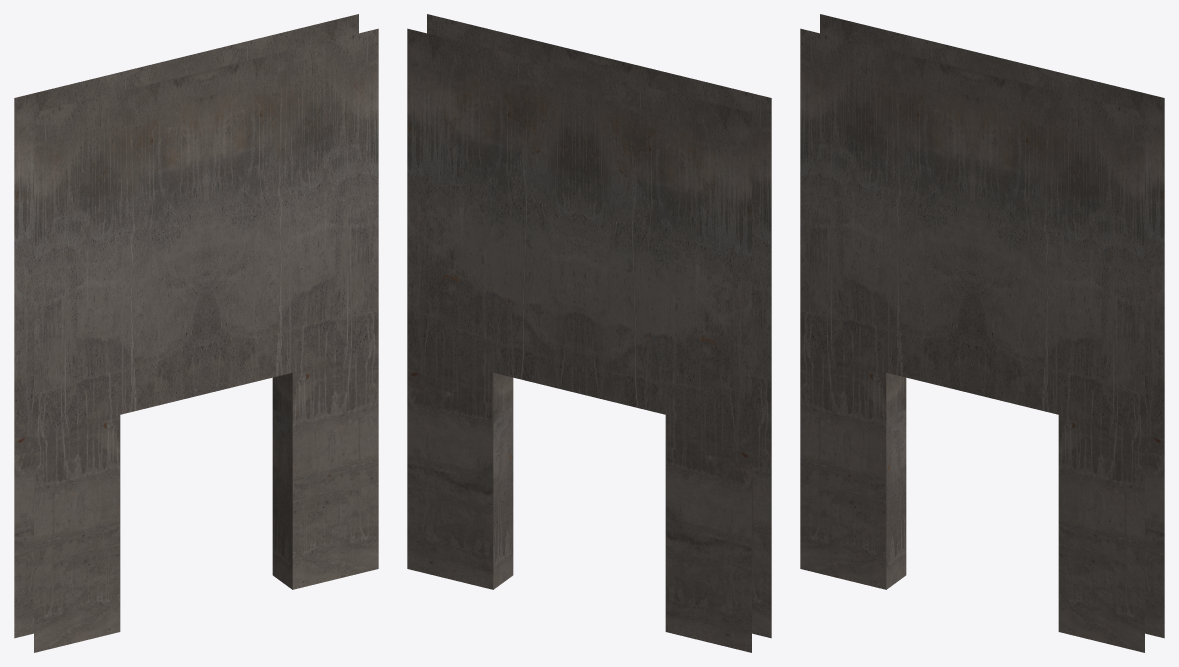
File: DoorCoverHigh.fbx
3 views of the same model, side by side, from view 1: azimuth 30°, elevation 25°; view 2: azimuth 150°, elevation 25°; view 3: azimuth 330°, elevation 25° (orthographic).
Visible parts, largest first — view 1: DoorBorderHigh; view 2: DoorBorderHigh; view 3: DoorBorderHigh.
Boxes of the visible parts, x1,y1,x2,y2 form: DoorBorderHigh: (14, 14, 378, 652); DoorBorderHigh: (407, 14, 771, 652); DoorBorderHigh: (800, 14, 1164, 652).
Bounding box in the file's own units: 400 × 599 × 40.
1 material, 1 textured.
